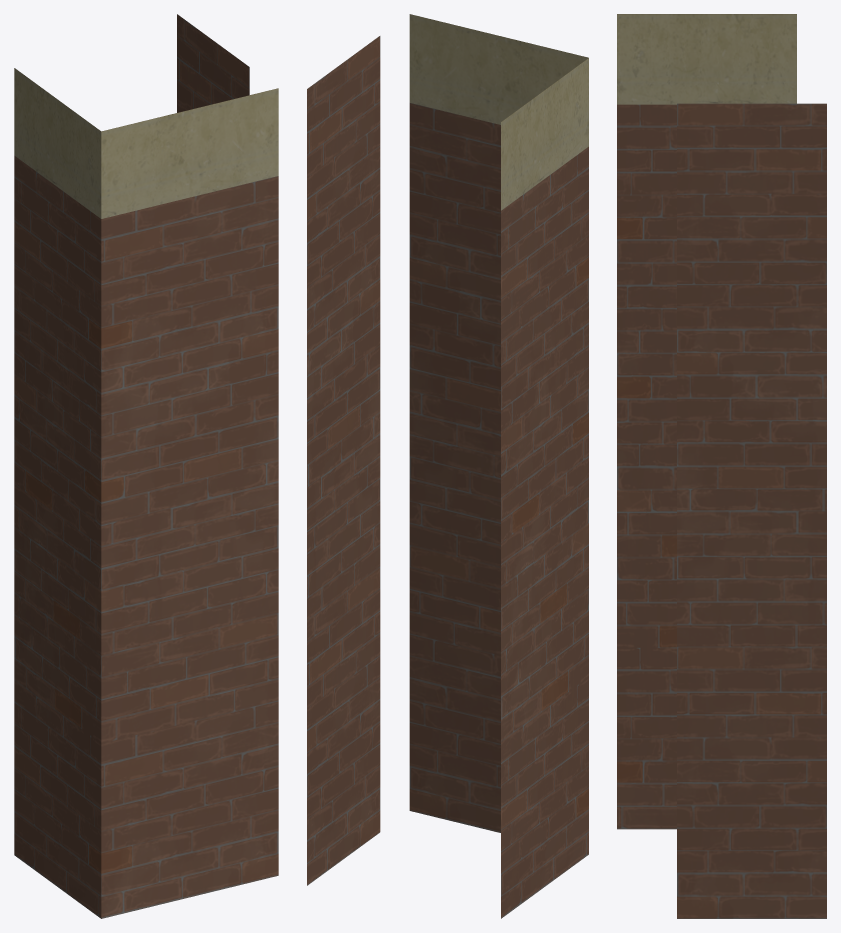
The model's file is Brick_TopTrim_90Angle_R.gltf.
3 views of the same model, side by side, from view 1: azimuth 30°, elevation 25°; view 2: azimuth 150°, elevation 25°; view 3: azimuth 270°, elevation 25° (orthographic). The views are drawn at different scales.
Visible parts, largest first — view 1: Brick_TopTrim_90Angle_R; view 2: Brick_TopTrim_90Angle_R; view 3: Brick_TopTrim_90Angle_R.
Part boxes in pixels (x1,y1,x2,y2): Brick_TopTrim_90Angle_R: [14, 14, 278, 918]; Brick_TopTrim_90Angle_R: [307, 14, 588, 918]; Brick_TopTrim_90Angle_R: [617, 14, 826, 918].
Bounding box in the file's own units: 0.7062 × 3 × 0.7.
Materials: 3 (3 with a texture image).
